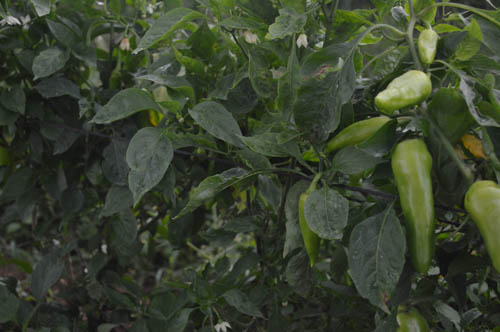ChiliPepper: (388, 138, 434, 269), (466, 179, 499, 256), (377, 71, 434, 107), (332, 115, 392, 148), (299, 191, 320, 265), (414, 27, 439, 63)
